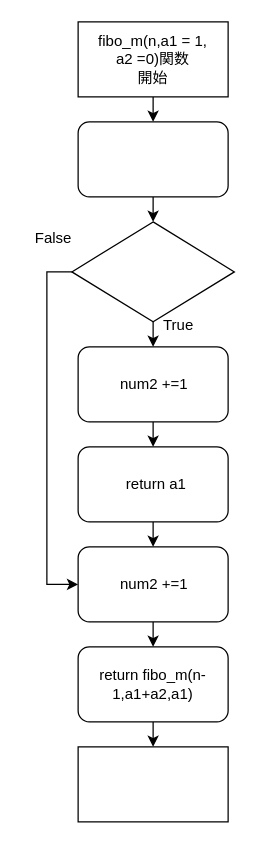
This 256x844 diagram has some shape labels left out. The shapes that lost their labels are listed below. From the top down, each one's centre as x and y in pixels, then its label:
At (152,159): "global num2".
At (152,271): "if n < 1".
At (152,784): "終了".
